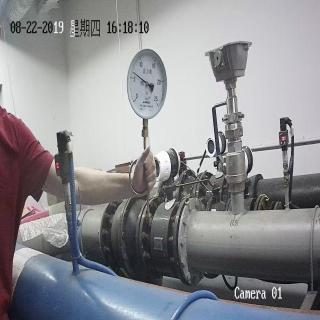gauge: (124, 48, 168, 120), (153, 98, 163, 109), (131, 96, 140, 107), (144, 80, 152, 89), (132, 70, 136, 74)
